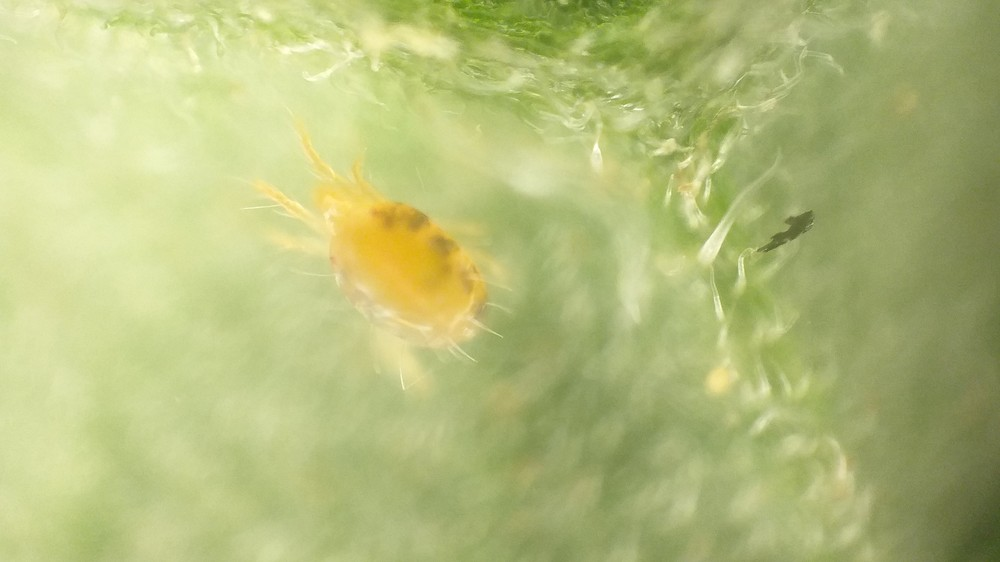Aracnido Rojo: (250, 107, 527, 401)
